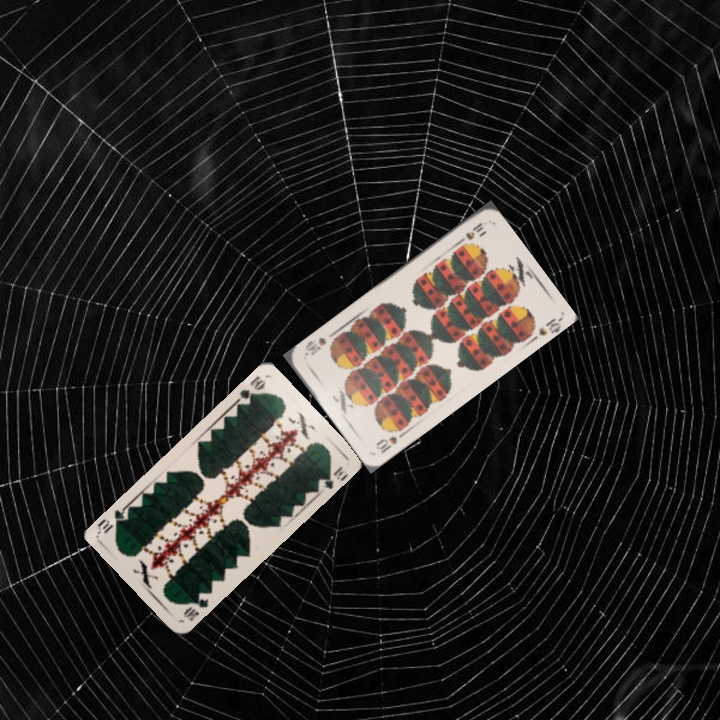G10: (233, 372, 268, 408), (179, 592, 211, 624)
S10: (371, 424, 409, 456), (453, 218, 486, 247)
